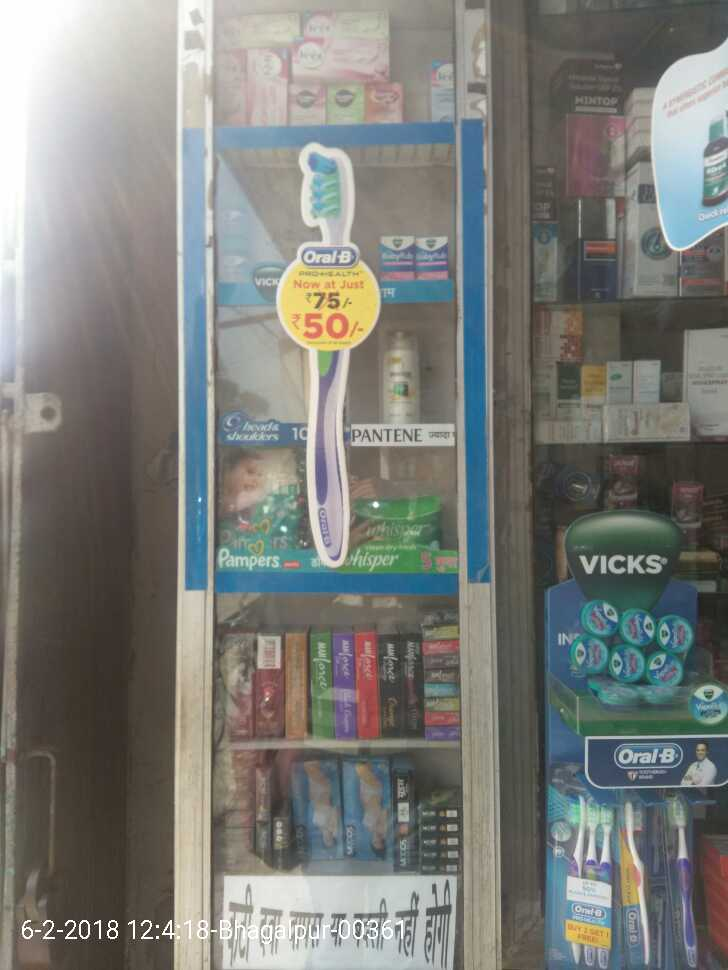oralcare: (553, 735, 723, 970)
vicks: (555, 587, 728, 725), (375, 223, 457, 287)
